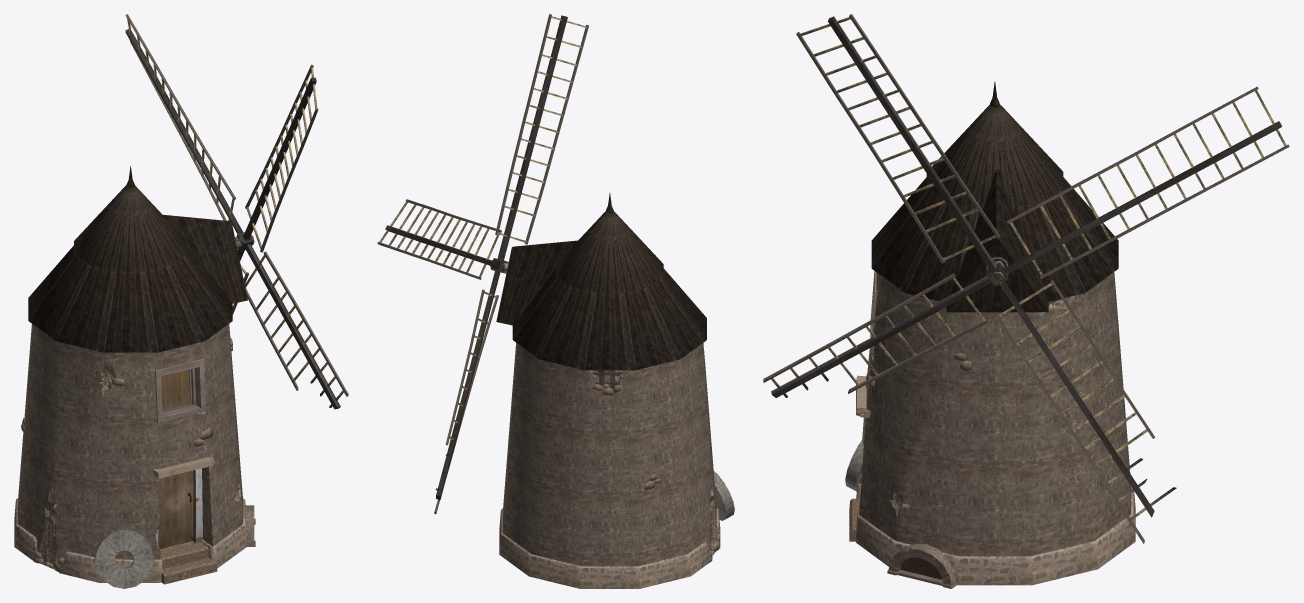
File: Windmill 3D Model by KIFIR.glb
3 views of the same model, side by side, from view 1: azimuth 30°, elevation 25°; view 2: azimuth 150°, elevation 25°; view 3: azimuth 270°, elevation 25° (orthographic). The views are drawn at different scales.
Visible parts, largest first — view 1: Windmill_windmill_0; view 2: Windmill_windmill_0; view 3: Windmill_windmill_0.
Part boxes in pixels (left/top/right/bottom): Windmill_windmill_0: left=14, top=14, right=348, bottom=588; Windmill_windmill_0: left=377, top=14, right=734, bottom=588; Windmill_windmill_0: left=763, top=14, right=1289, bottom=588.
Bounding box in the file's own units: 6.04 × 12.39 × 10.11.
1 material, 1 textured.
